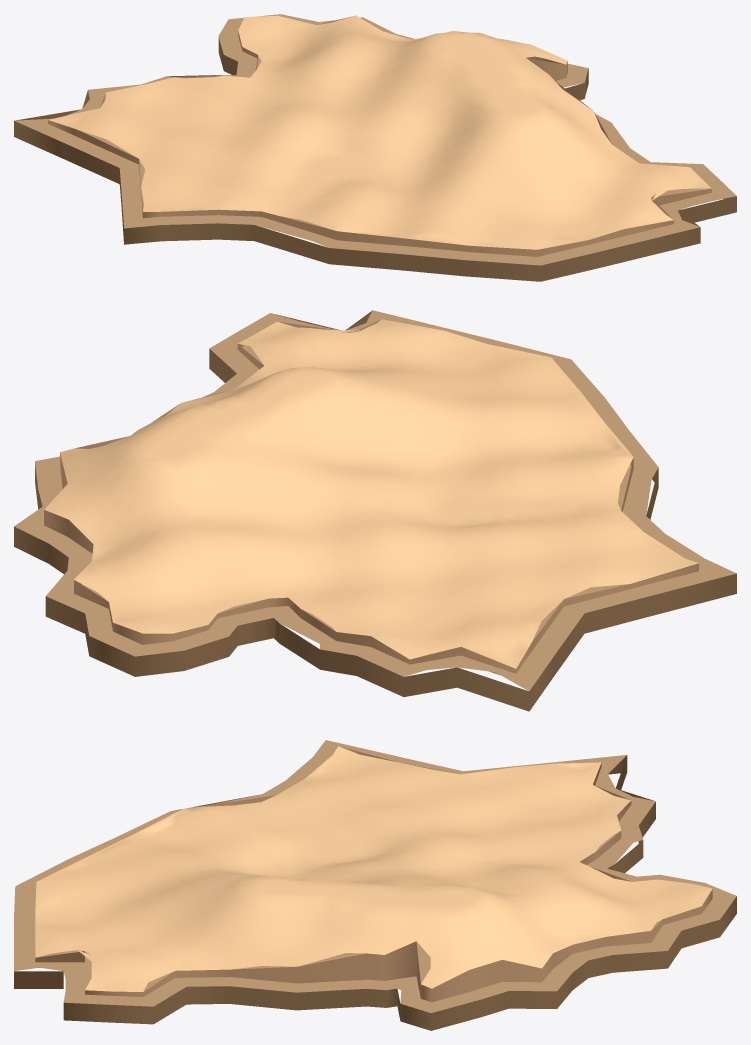
The model's file is chihuahua_travel_map.glb.
3 renders of one model, top to bottom at view 1: azimuth 30°, elevation 25°; view 2: azimuth 150°, elevation 25°; view 3: azimuth 270°, elevation 25°, orthographic. The views are drawn at different scales.
Parts seen in each view (by area): view 1: terrain, pedestal_side, pedestal_top, edge; view 2: terrain, pedestal_top, pedestal_side, edge; view 3: terrain, pedestal_top, pedestal_side, edge.
Boxes of the visible parts, <box> form: terrain: <box>48,15,711,249</box>; pedestal_side: <box>14,37,736,281</box>; pedestal_top: <box>14,14,736,265</box>; edge: <box>48,16,711,256</box>; terrain: <box>44,319,698,668</box>; pedestal_top: <box>14,310,736,691</box>; pedestal_side: <box>14,310,736,711</box>; edge: <box>44,319,698,675</box>; terrain: <box>35,746,712,991</box>; pedestal_top: <box>14,740,736,1012</box>; pedestal_side: <box>14,755,736,1030</box>; edge: <box>35,746,712,1002</box>.
Bounding box in the file's own units: 2.58 × 0.297 × 2.88.
